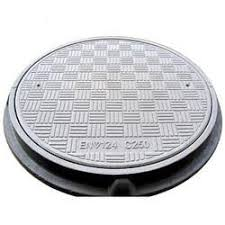manhole: (2, 14, 225, 210)
